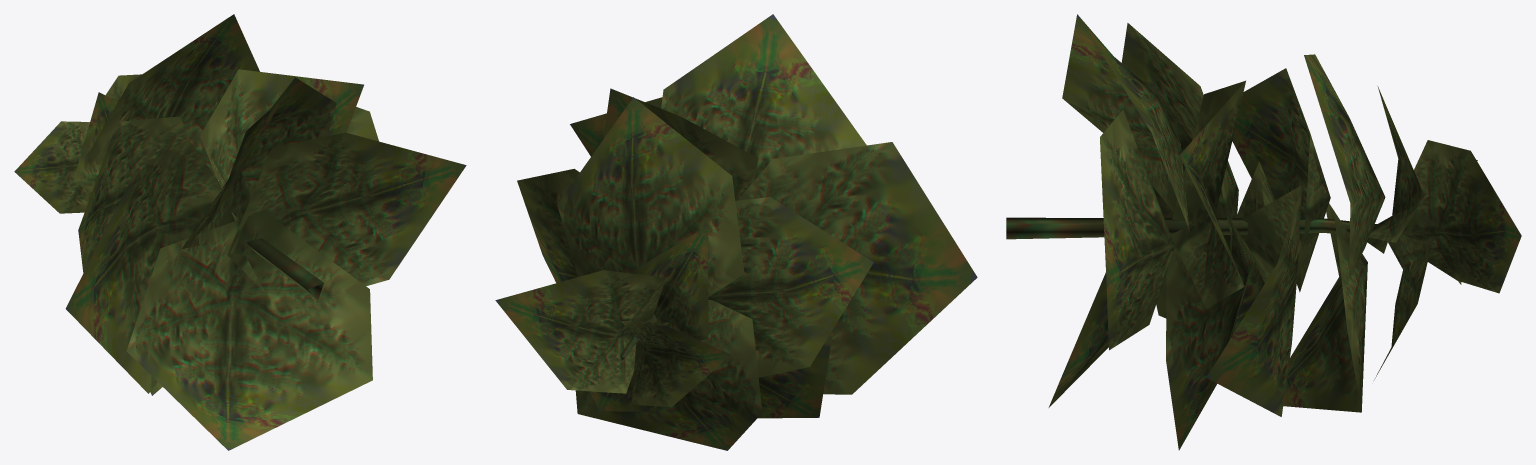
The model's file is Hogweed_Medium_vcta.fbx.
3 views of the same model, side by side, from view 1: azimuth 30°, elevation 25°; view 2: azimuth 150°, elevation 25°; view 3: azimuth 270°, elevation 25° (orthographic). The views are drawn at different scales.
Visible parts, largest first — view 1: Hogweed_Medium; view 2: Hogweed_Medium; view 3: Hogweed_Medium.
Boxes of the visible parts, <box> form: Hogweed_Medium: <box>14,14,466,450</box>; Hogweed_Medium: <box>495,14,977,450</box>; Hogweed_Medium: <box>1006,14,1521,450</box>.
Bounding box in the file's own units: 3.74 × 3.2 × 3.64.
